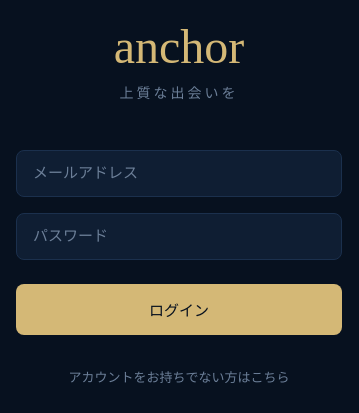
Scenario: LoginScreen › メール未入力でログインボタン押下 → エラーが表示される
Click the text "ログイン" at (179, 309), box [149, 298, 209, 320]
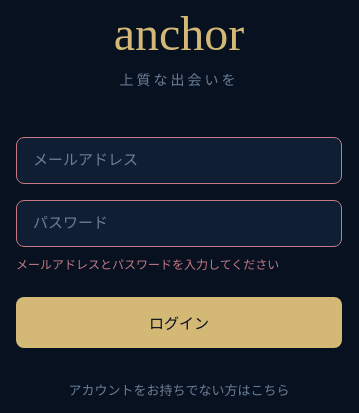
expect the text "メールアドレスとパスワードを入力してください" is shown: met, box [16, 258, 279, 272]
